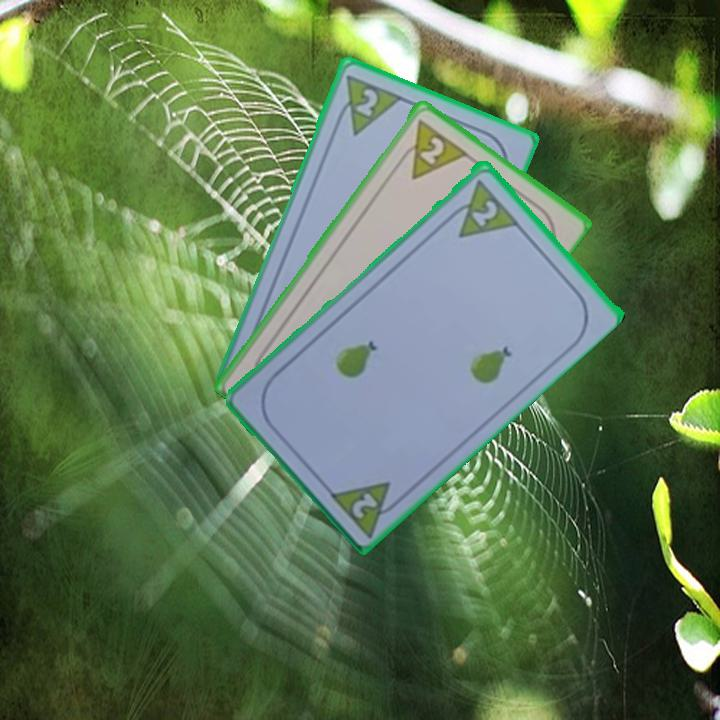2p: (392, 115, 470, 182), (330, 70, 405, 138), (467, 195, 501, 229), (348, 487, 381, 521)
